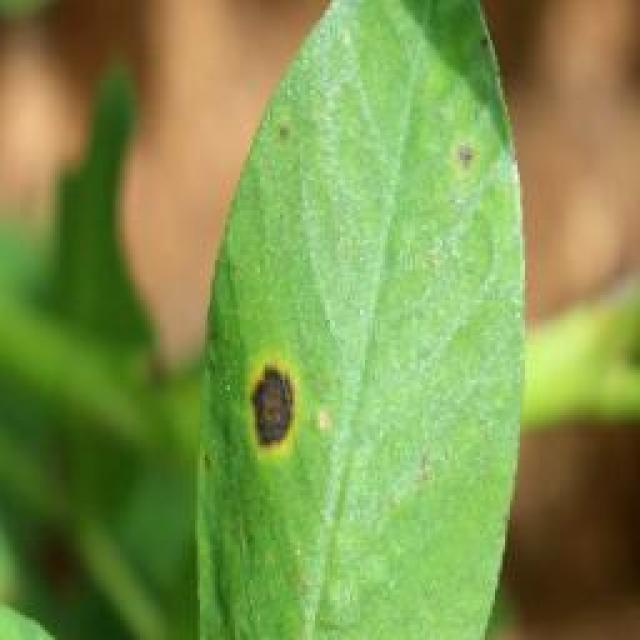Sigatoka: (226, 326, 320, 452), (428, 117, 496, 198), (256, 102, 325, 174)
